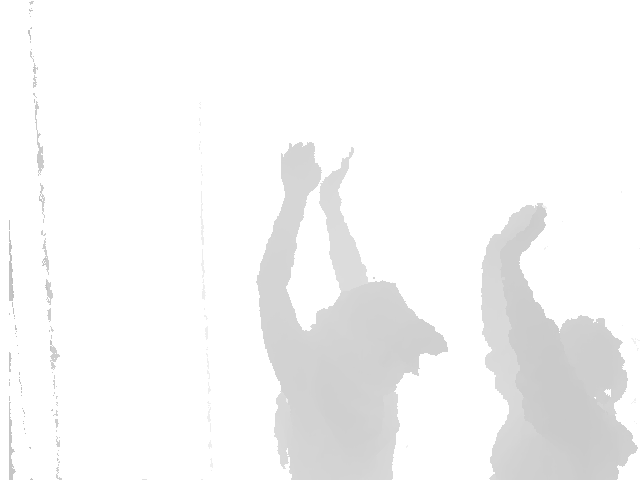hand: (487, 203, 540, 257), (317, 140, 356, 210), (276, 140, 320, 202), (504, 205, 554, 258)
head: (302, 282, 448, 390), (554, 314, 629, 412)
person: (248, 141, 449, 480), (475, 201, 639, 477)
